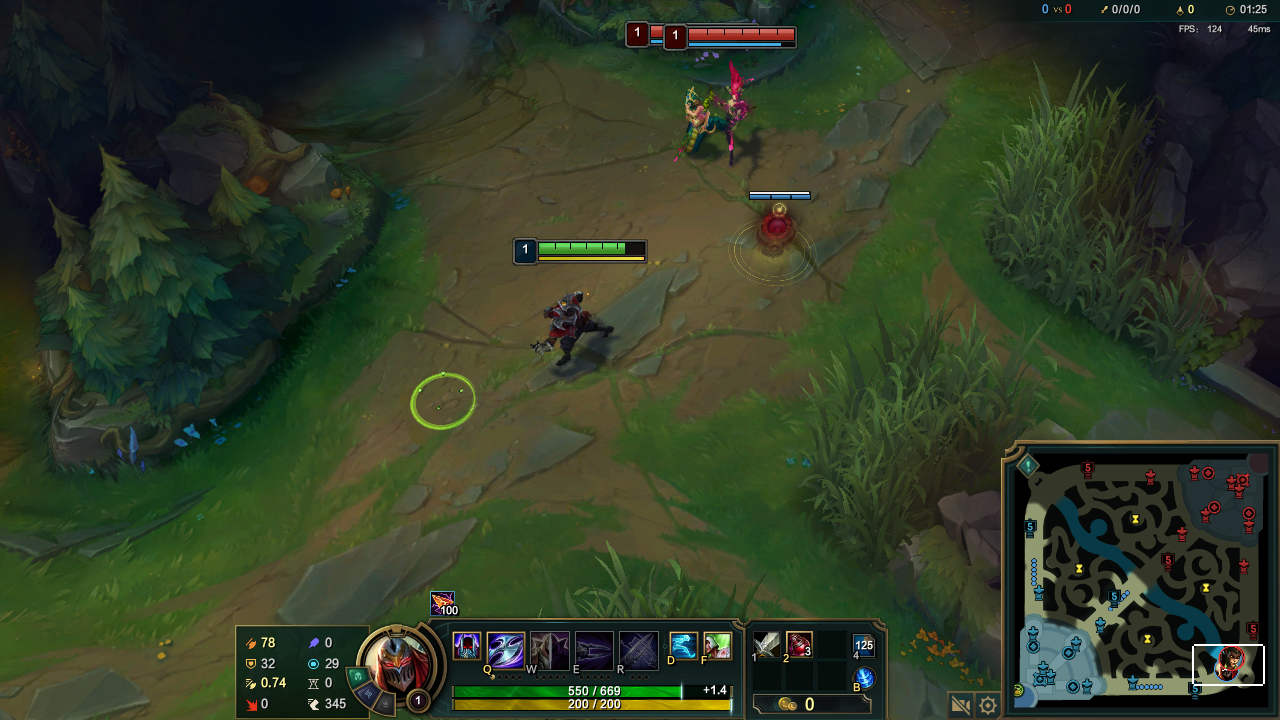DFYX: (686, 27, 798, 40), (647, 24, 663, 37)
